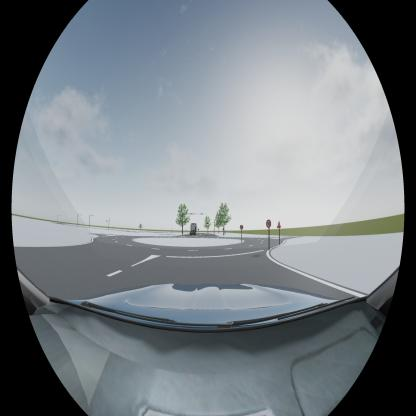Speed Limit 50: (266, 220, 271, 227), (240, 225, 244, 230)
